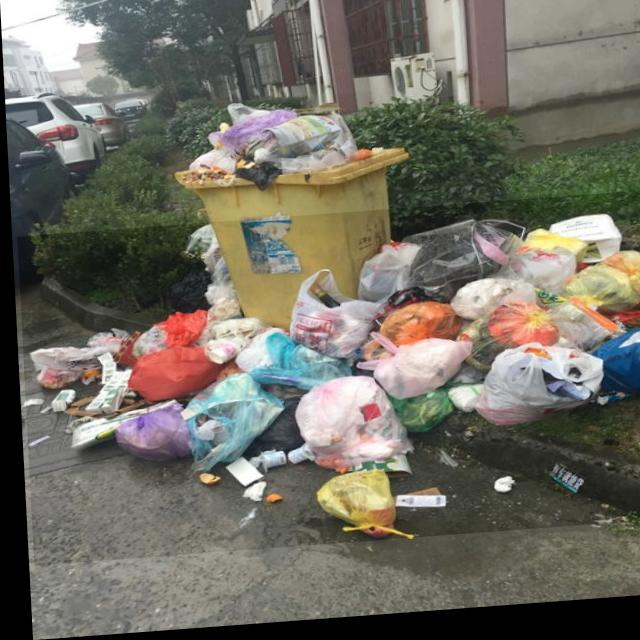garbage: (15, 200, 640, 566)
overflow: (169, 96, 413, 338)
